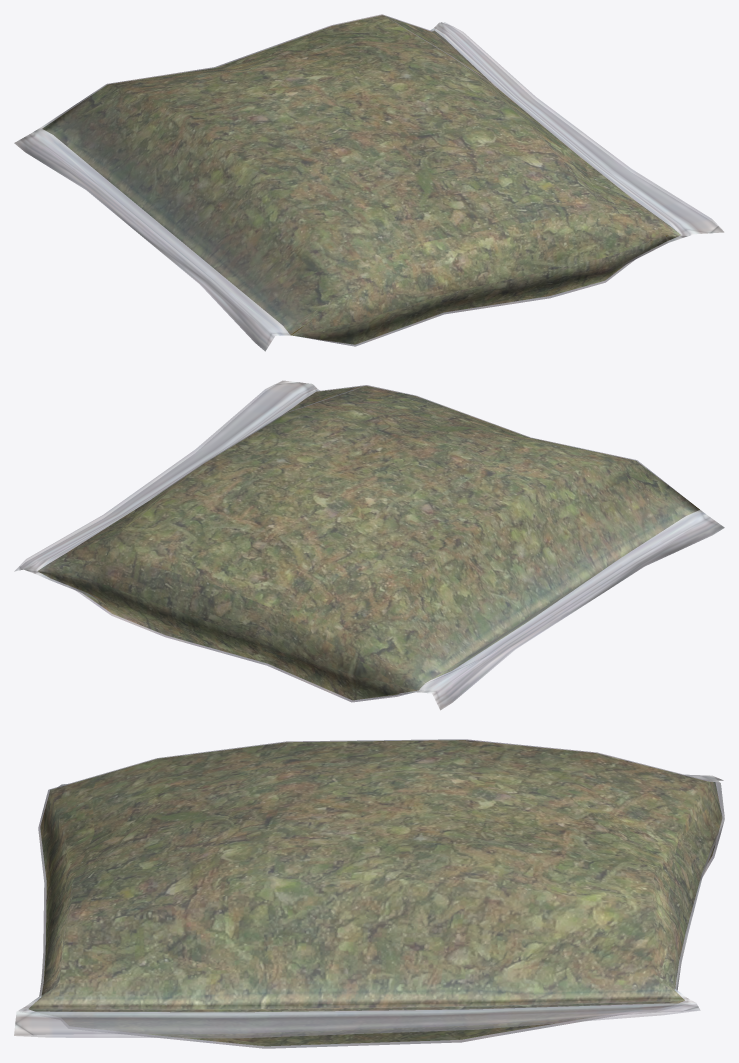
The model's file is weed-10g.glb.
The picture shows the model from 3 angles, top to bottom: view 1: azimuth 30°, elevation 25°; view 2: azimuth 150°, elevation 25°; view 3: azimuth 270°, elevation 25°; orthographic projection. The views are drawn at different scales.
Parts seen in each view (by area): view 1: small bag; view 2: small bag; view 3: small bag.
Part boxes in pixels (x1,y1,x2,y2): small bag: (14,14,724,351); small bag: (14,380,724,710); small bag: (14,739,724,1048).
Size of the model in its own units: 0.6343 by 0.2119 by 0.689.
2 materials, 2 textured.
